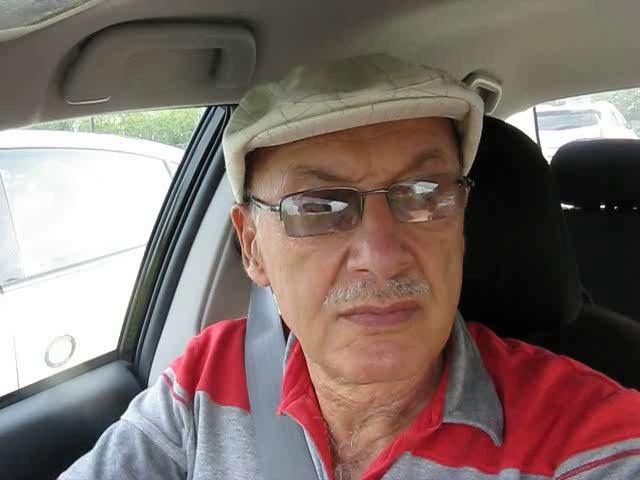no_yawn: (315, 284, 437, 342)
open_eyeL: (276, 183, 364, 236)
open_eyeR: (383, 164, 469, 223)
